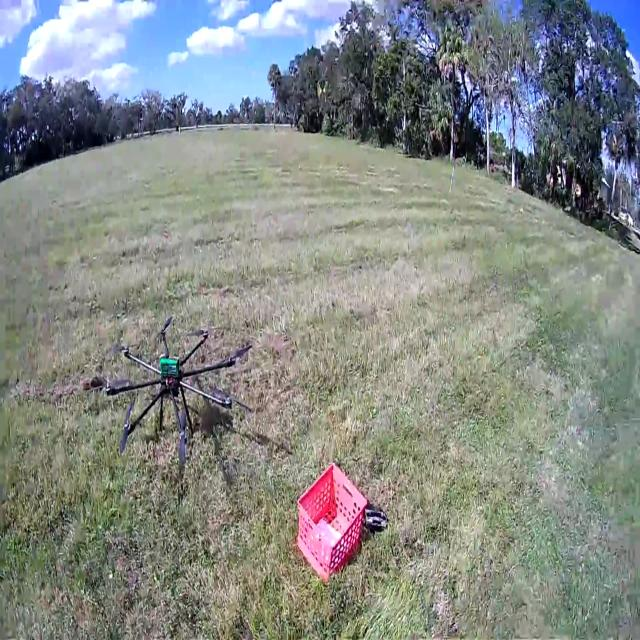drone: (92, 293, 246, 521)
